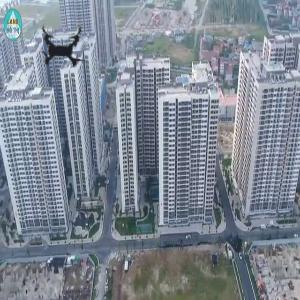drone: (17, 3, 107, 93)
